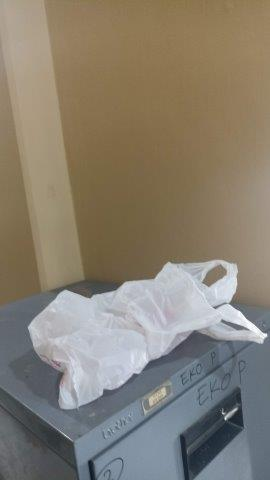plastik: (30, 259, 266, 404)
